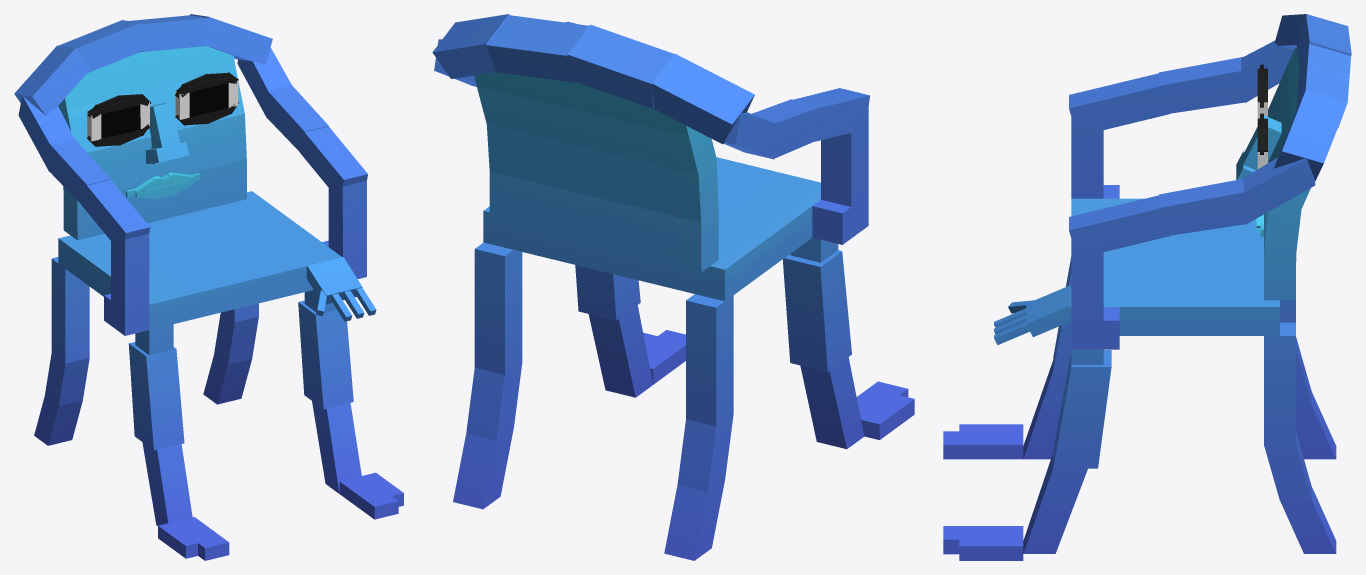
Rendered from Karkerkar_Kurkur.fbx.
The picture shows the model from 3 angles, left to right: view 1: azimuth 30°, elevation 25°; view 2: azimuth 150°, elevation 25°; view 3: azimuth 270°, elevation 25°; orthographic projection. The views are drawn at different scales.
Parts seen in each view (by area): view 1: Object.105; view 2: Object.105; view 3: Object.105.
Part boxes in pixels (box(x1,y1,x2,y2)): Object.105: box(14, 14, 403, 560); Object.105: box(432, 14, 914, 560); Object.105: box(943, 14, 1351, 560).
Size of the model in its own units: 1.44 by 2.25 by 1.82.
